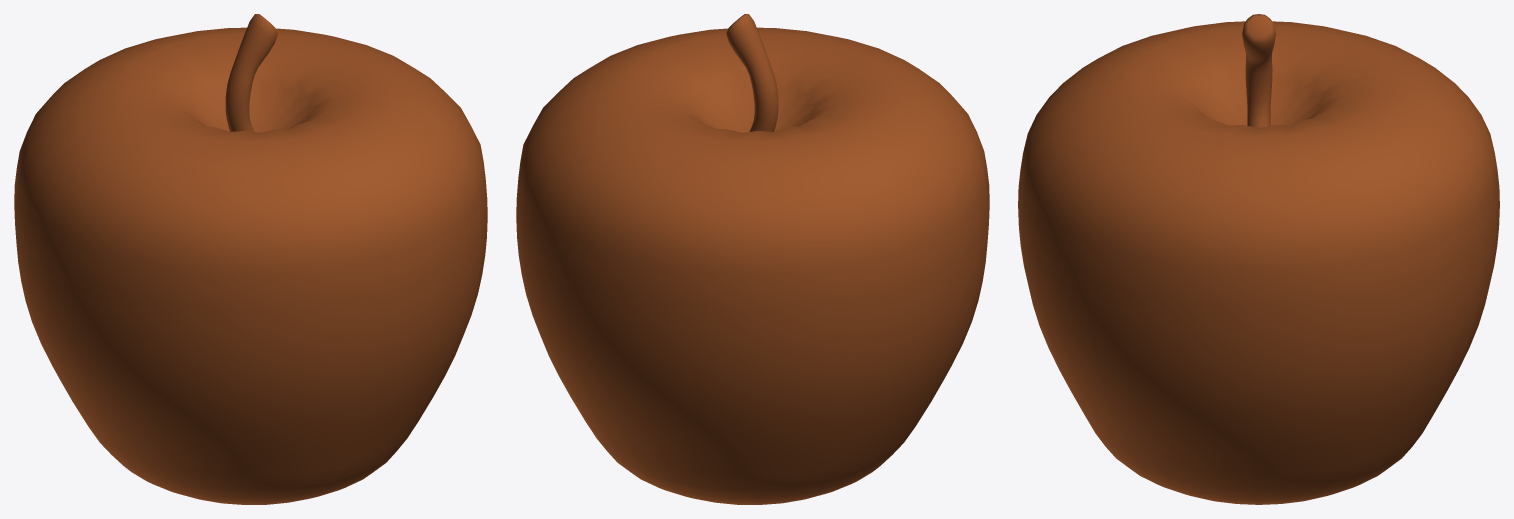
Rendered from SM_Apple.fbx.
3 renders of one model, left to right at view 1: azimuth 30°, elevation 25°; view 2: azimuth 150°, elevation 25°; view 3: azimuth 270°, elevation 25°, orthographic.
Visible parts, largest first — view 1: SM_Apple; view 2: SM_Apple; view 3: SM_Apple.
Boxes of the visible parts, x1=… form: SM_Apple: x1=14, y1=14, x2=487, y2=504; SM_Apple: x1=516, y1=14, x2=989, y2=504; SM_Apple: x1=1018, y1=14, x2=1499, y2=504.
Size of the model in its own units: 14.15 by 14.16 by 14.77.
